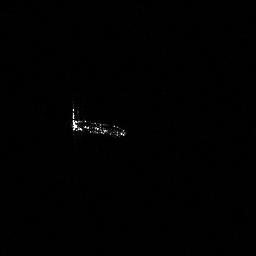ship: (72, 118, 126, 136)
